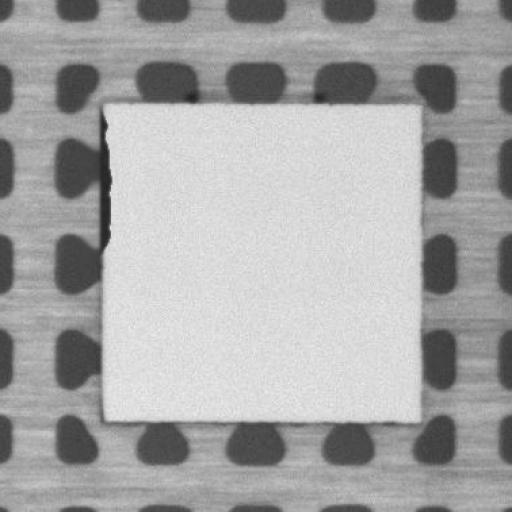DIE_BROKEN: (94, 98, 114, 258)
